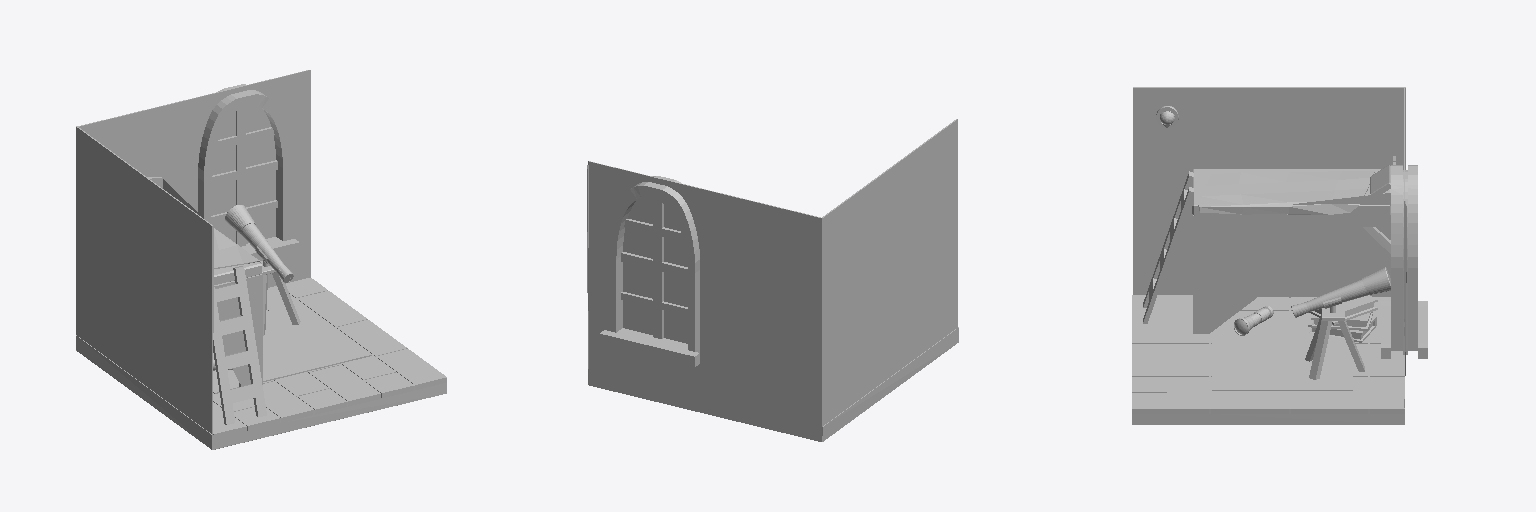
Rendered from Bedroom blenderversion.obj.
The picture shows the model from 3 angles: view 1: azimuth 30°, elevation 25°; view 2: azimuth 150°, elevation 25°; view 3: azimuth 270°, elevation 25°; orthographic projection.
Parts seen in each view (by area): view 1: !Room, Tiles, Rug, Window.001, ladder, Bed, Window_Rungs, Telscope, Blanket, Matress; view 2: !Room, Window.001, Window_Rungs; view 3: !Room, Bed, Tiles, Rug, Blanket, Window.001, Telscope, ladder, Matress, book_3, Flashlight.
Part boxes in pixels (bbox=[...]): !Room: bbox=[76, 70, 446, 449]; Tiles: bbox=[213, 278, 446, 438]; Rug: bbox=[213, 303, 371, 393]; Window.001: bbox=[198, 84, 299, 260]; ladder: bbox=[213, 266, 266, 424]; Bed: bbox=[147, 177, 262, 386]; Window_Rungs: bbox=[211, 107, 277, 246]; Telscope: bbox=[225, 205, 300, 335]; Blanket: bbox=[214, 228, 260, 268]; Matress: bbox=[214, 262, 261, 284]; !Room: bbox=[587, 119, 958, 441]; Window.001: bbox=[599, 176, 699, 366]; Window_Rungs: bbox=[621, 198, 687, 338]; !Room: bbox=[1132, 87, 1406, 424]; Bed: bbox=[1193, 156, 1395, 333]; Tiles: bbox=[1132, 295, 1404, 413]; Rug: bbox=[1212, 313, 1352, 390]; Blanket: bbox=[1198, 171, 1374, 214]; Window.001: bbox=[1381, 165, 1427, 358]; Telscope: bbox=[1291, 267, 1390, 379]; ladder: bbox=[1143, 171, 1193, 323]; Matress: bbox=[1192, 169, 1390, 215]; book_3: bbox=[1309, 295, 1377, 324]; Flashlight: bbox=[1234, 306, 1273, 335].
Size of the model in its own units: 2.44 by 2.22 by 2.67.